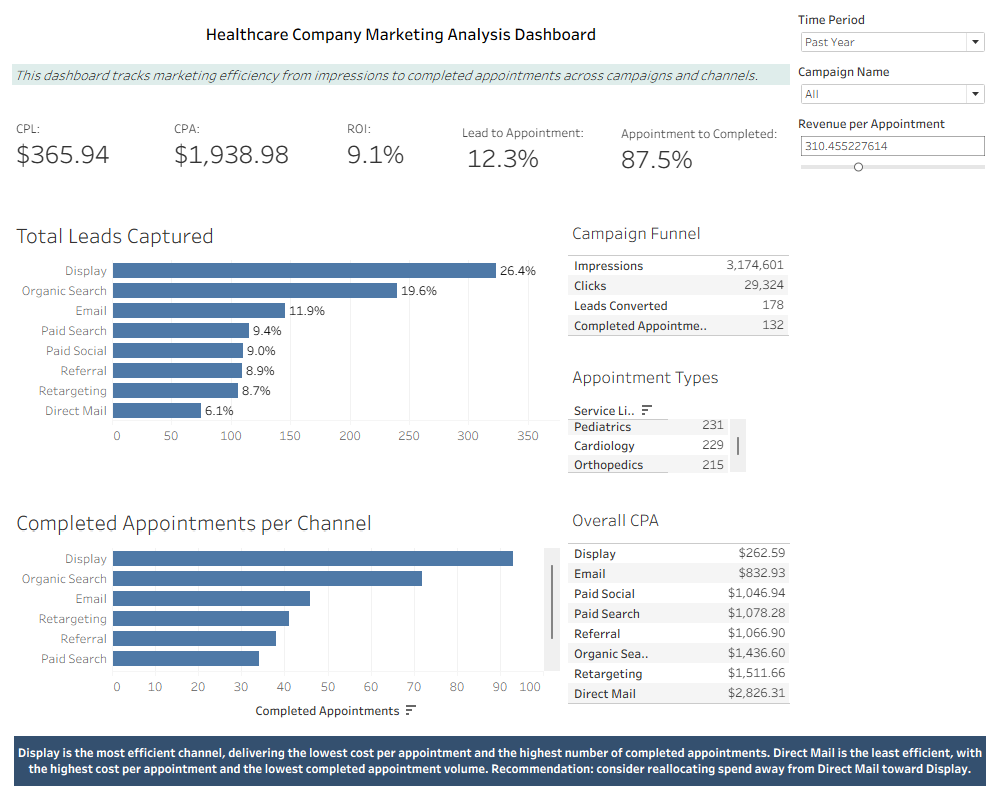

What the dashboard file says about the page in this screenshot:
{"tool":"tableau","page":{"name":"Marketing Funnel Dashboard","canvas":[1000,800],"ordinal":1},"visuals":[{"type":"text","box":[8,8,786,52.6]},{"type":"parameter","param":"[Parameters].[Parameter 3]","box":[794,8,198,52]},{"type":"parameter","param":"[Parameters].[Parameter 4]","box":[794,60,198,52]},{"type":"text","box":[8,60.6,786,29.5]},{"type":"worksheet","title":"CPL Tile","mark":"Text","box":[8,90.1,158.3,123.9]},{"type":"worksheet","title":"CPA Tile","mark":"Text","box":[166.3,90.1,173,123.9]},{"type":"worksheet","title":"ROI Tile","mark":"Text","box":[339.3,90.1,143,123.9]},{"type":"parameter","param":"[Parameters].[Parameter 2]","box":[794,112,198,75]},{"type":"worksheet","title":"Lead to Appointment % Tile","mark":"Text","box":[458,125,148,98]},{"type":"worksheet","title":"Appt to Completed % Tile","mark":"Text","box":[617,126,206,115]},{"type":"worksheet","title":"Bar Graph: Total Leads Captured","mark":"Automatic","rows":["channel"],"cols":["lead_id"],"box":[8,214,556,287.5]},{"type":"worksheet","title":"KPI Campaign Funnel","mark":"Text","box":[564,214,230,127]},{"type":"worksheet","title":"Table: Completed Appts by Service Line ","mark":"Automatic","rows":["service_line (ehr_appointments.csv1)"],"box":[564,358,230,143]},{"type":"worksheet","title":"Bar Graph: CPA by Channel","mark":"Automatic","rows":["channel"],"cols":["Calculation_410953512050544647"],"box":[8,501.5,556,228.5]},{"type":"worksheet","title":"Table: Overall CPA","mark":"Automatic","rows":["channel"],"box":[564,501.5,230,207]},{"type":"text","box":[8,730,984,62]}]}

Visuals, with their boxes in screenshot pixels (x1, y1, x2, y2), scaled from the page's 1000x800 canvas onto the 999x792 screenshot:
text: 8,8,793,60
parameter: 793,8,991,59
parameter: 793,59,991,111
text: 8,60,793,89
"CPL Tile" worksheet (Text marks): 8,89,166,212
"CPA Tile" worksheet (Text marks): 166,89,339,212
"ROI Tile" worksheet (Text marks): 339,89,482,212
parameter: 793,111,991,185
"Lead to Appointment % Tile" worksheet (Text marks): 458,124,605,221
"Appt to Completed % Tile" worksheet (Text marks): 616,125,822,239
"Bar Graph: Total Leads Captured" worksheet: 8,212,563,496
"KPI Campaign Funnel" worksheet (Text marks): 563,212,793,338
"Table: Completed Appts by Service Line " worksheet: 563,354,793,496
"Bar Graph: CPA by Channel" worksheet: 8,496,563,723
"Table: Overall CPA" worksheet: 563,496,793,701
text: 8,723,991,784
